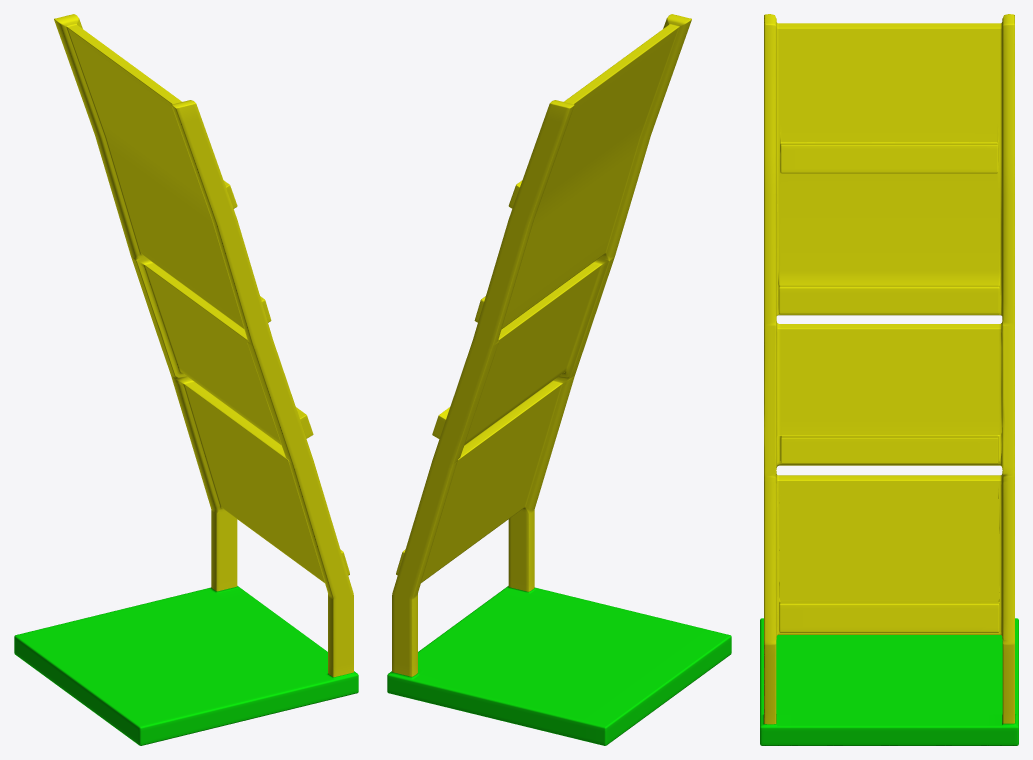
The model's file is book shelf.fbx.
The picture shows the model from 3 angles, left to right: view 1: azimuth 30°, elevation 25°; view 2: azimuth 150°, elevation 25°; view 3: azimuth 270°, elevation 25°; orthographic projection. The views are drawn at different scales.
Visible parts, largest first — view 1: pCube16; view 2: pCube16; view 3: pCube16.
Part boxes in pixels (x1,y1,x2,y2): pCube16: (14,14,358,745); pCube16: (387,14,731,745); pCube16: (760,14,1018,745).
Size of the model in its own units: 45.13 by 123 by 45.
